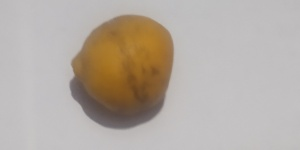BAD: (70, 15, 175, 115)
